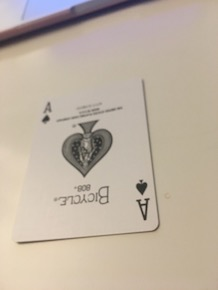AceOfSpades: (14, 78, 162, 245)
